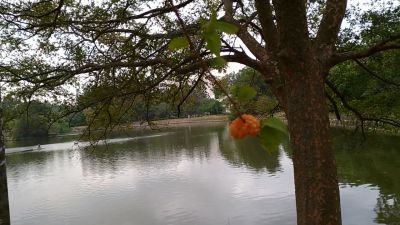eggs: (229, 114, 260, 140)
